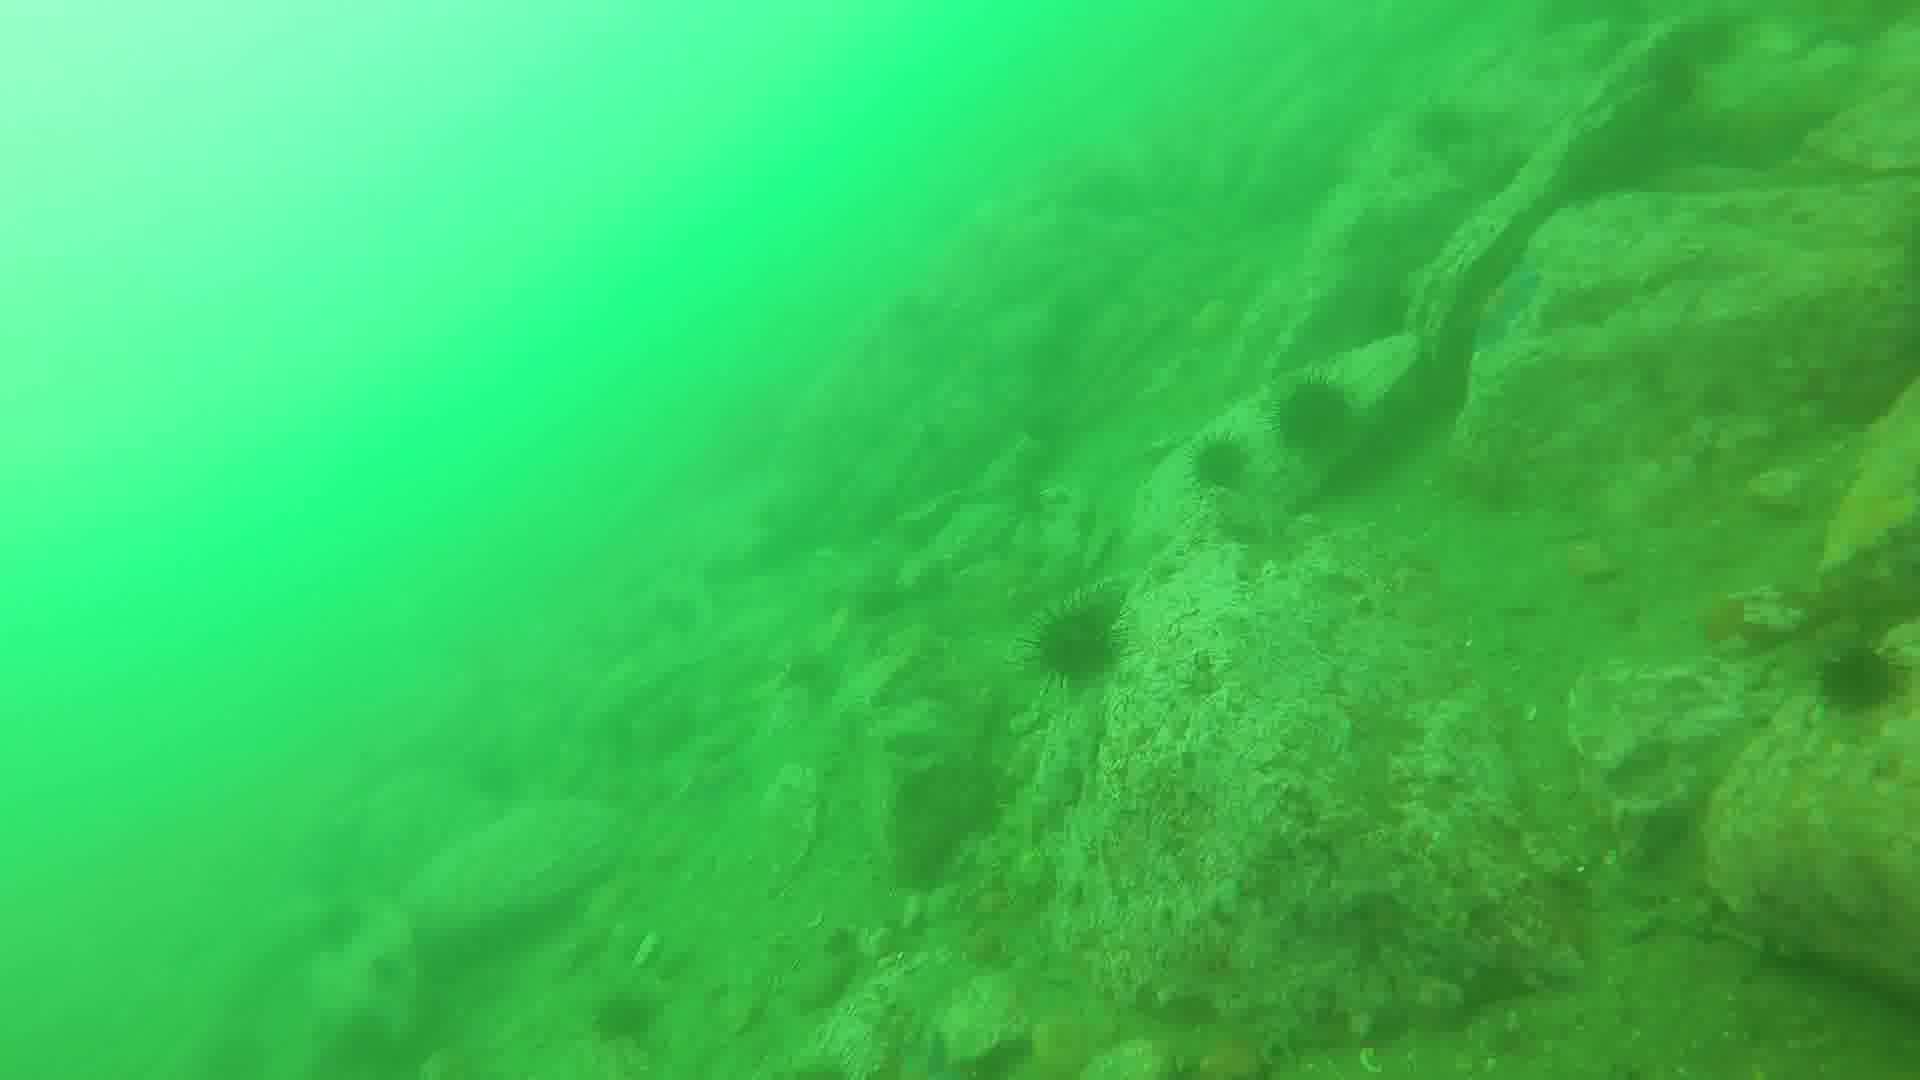echinus: (1026, 603, 1134, 682), (1811, 634, 1908, 717), (1270, 373, 1356, 454), (592, 986, 662, 1054), (1188, 433, 1249, 483)
